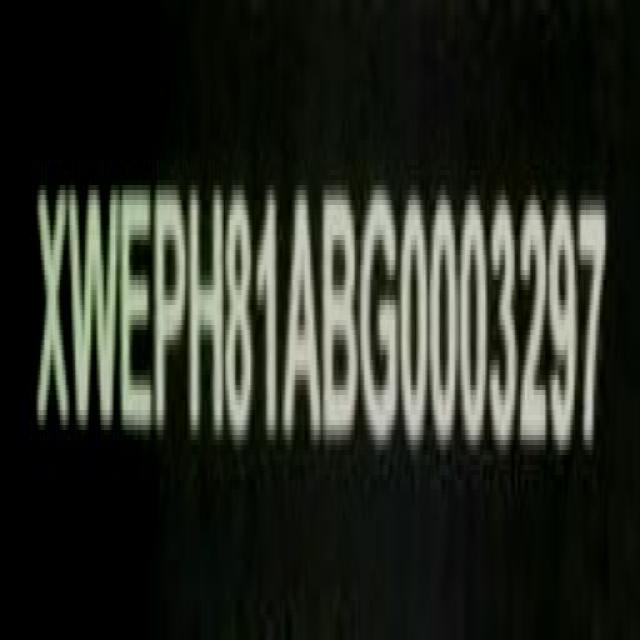0: (400, 188, 432, 451), (460, 189, 490, 449), (430, 189, 459, 451)
1: (257, 178, 283, 452)
2: (520, 197, 549, 452)
3: (490, 189, 521, 451)
7: (581, 192, 611, 458)
8: (224, 180, 254, 448)
9: (548, 195, 576, 454)
A: (284, 182, 322, 452)
B: (322, 181, 361, 450)
E: (118, 180, 156, 446)
G: (360, 182, 400, 451)
H: (189, 179, 227, 449)
P: (154, 178, 190, 446)
W: (70, 178, 124, 445)
X: (36, 182, 72, 442)
